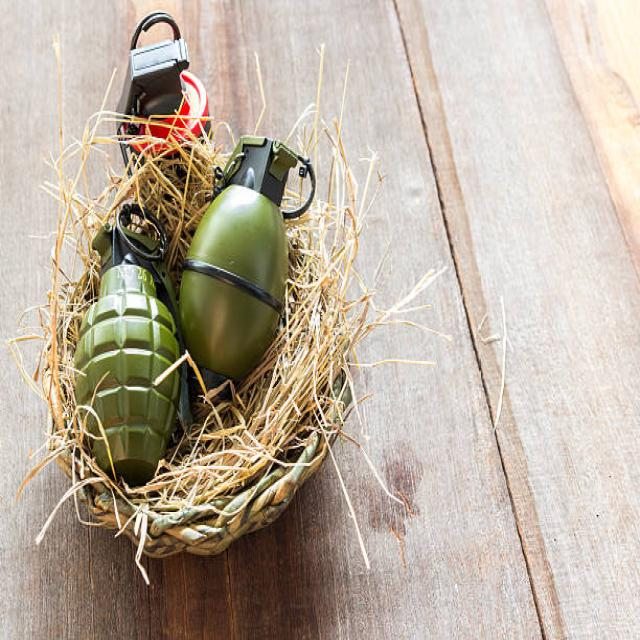grenade: (178, 128, 322, 401), (73, 201, 195, 487)
